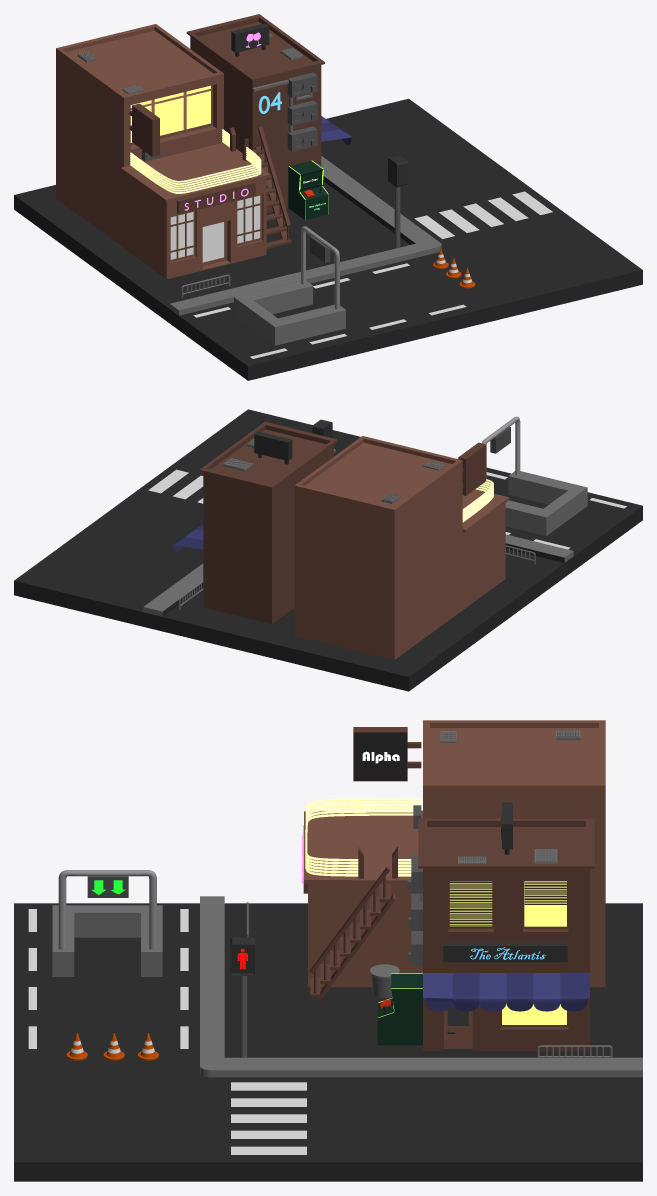
The picture shows the model from 3 angles, top to bottom: view 1: azimuth 30°, elevation 25°; view 2: azimuth 150°, elevation 25°; view 3: azimuth 270°, elevation 25°; orthographic projection. The views are drawn at different scales.
Visible parts, largest first — view 1: Cube_1, Cube.001_2, Cube.015_41, Cube.012_33, object 8, Cube.020_46, Plane.004_38, Cube.002_3, Cube.003_5, Cube.034_24, Cube.033_23, Cube.022_52 (+9 smaller); view 2: Cube_1, Cube.001_2, Cube.015_41, Cube.012_33, Cube.002_3, Cube.022_52, Plane.004_38, Cylinder.003_0, object 8, Plane.005_45; view 3: Cube_1, Cube.001_2, Cube.015_41, Plane.005_45, Cube.012_33, Plane.004_38, object 8, Cube.002_3, Cube.020_46, Cube.019_43, Plane.006_63, Cylinder.003_0 (+11 smaller).
Boxes of the visible parts, left/top/right/bottom form: Cube_1: left=14, top=98, right=642, bottom=380; Cube.001_2: left=56, top=24, right=270, bottom=279; Cube.015_41: left=186, top=14, right=324, bottom=212; Cube.012_33: left=234, top=281, right=345, bottom=345; object 8: left=130, top=129, right=261, bottom=193; Cube.020_46: left=288, top=160, right=328, bottom=220; Plane.004_38: left=414, top=191, right=552, bottom=238; Cube.002_3: left=129, top=103, right=159, bottom=156; Cube.003_5: left=177, top=181, right=255, bottom=214; Cube.034_24: left=237, top=195, right=260, bottom=243; Cube.033_23: left=170, top=212, right=193, bottom=259; Cube.022_52: left=231, top=23, right=269, bottom=52; Cube_1: left=14, top=409, right=642, bottom=691; Cube.001_2: left=294, top=436, right=509, bottom=659; Cube.015_41: left=199, top=421, right=337, bottom=624; Cube.012_33: left=505, top=471, right=587, bottom=535; Cube.002_3: left=458, top=442, right=486, bottom=495; Cube.022_52: left=254, top=431, right=292, bottom=460; Plane.004_38: left=148, top=469, right=203, bottom=503; Cylinder.003_0: left=481, top=416, right=520, bottom=490; object 8: left=462, top=479, right=493, bottom=522; Plane.005_45: left=172, top=523, right=203, bottom=552; Cube_1: left=14, top=896, right=642, bottom=1181; Cube.001_2: left=304, top=720, right=605, bottom=987; Cube.015_41: left=418, top=818, right=594, bottom=1051; Plane.005_45: left=423, top=973, right=589, bottom=1011; Cube.012_33: left=52, top=905, right=162, bottom=976; Plane.004_38: left=231, top=1082, right=306, bottom=1154; object 8: left=305, top=798, right=420, bottom=876; Cube.002_3: left=353, top=727, right=421, bottom=781; Cube.020_46: left=377, top=973, right=422, bottom=1045; Cube.019_43: left=443, top=942, right=567, bottom=962; Plane.006_63: left=449, top=881, right=492, bottom=927; Cylinder.003_0: left=58, top=870, right=156, bottom=949.
Size of the model in its own units: 50.33 by 20.99 by 51.69.
